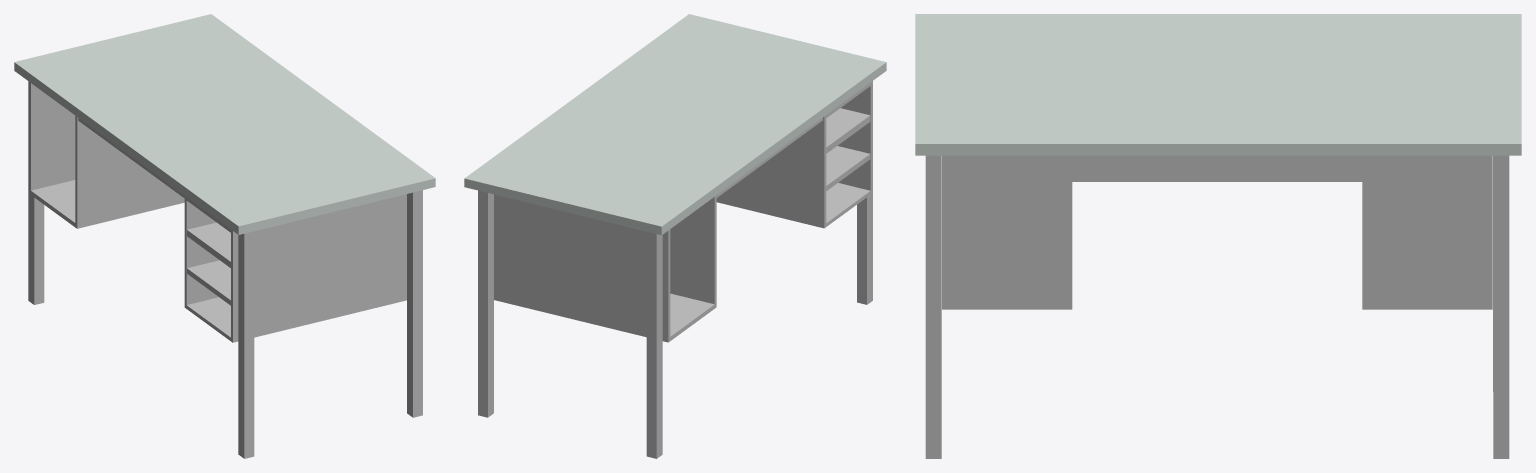
Rendered from SM_Table_A_01.fbx.
The picture shows the model from 3 angles, left to right: view 1: azimuth 30°, elevation 25°; view 2: azimuth 150°, elevation 25°; view 3: azimuth 270°, elevation 25°; orthographic projection. The views are drawn at different scales.
Visible parts, largest first — view 1: SM_Table_A_01; view 2: SM_Table_A_01; view 3: SM_Table_A_01.
Boxes of the visible parts, x1,y1,x2,y2 form: SM_Table_A_01: (14,14,435,458); SM_Table_A_01: (464,14,886,458); SM_Table_A_01: (915,14,1521,458).
Bounding box in the file's own units: 88.96 × 102 × 175.
